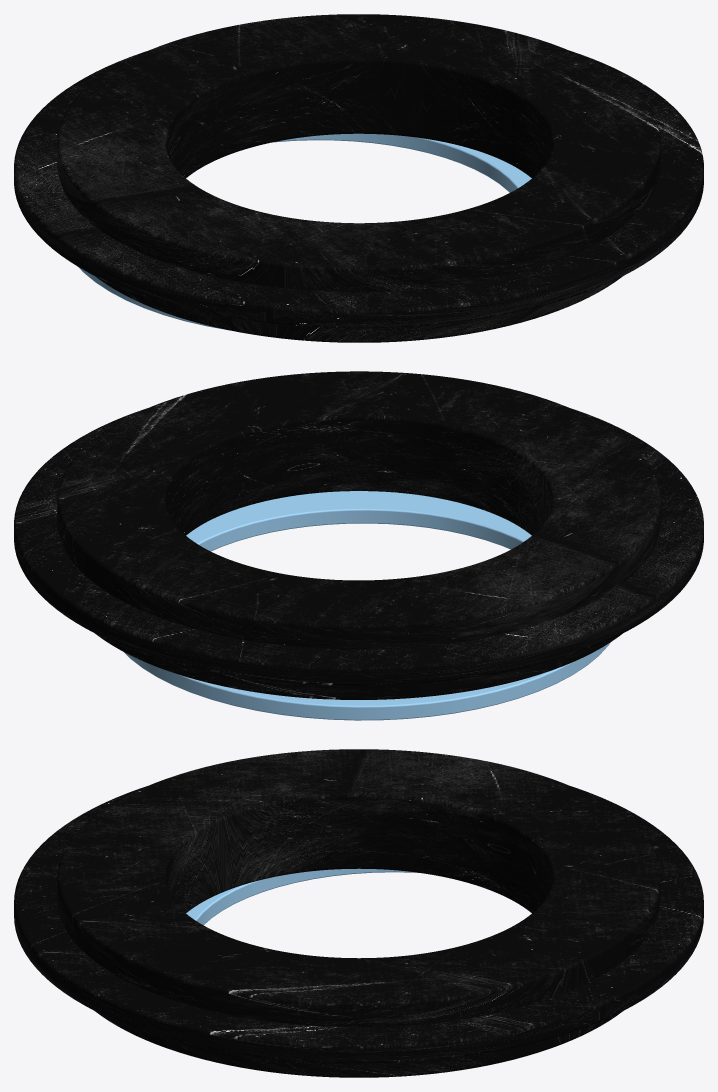
The model's file is glass_aberration.gltf.
The picture shows the model from 3 angles, top to bottom: view 1: azimuth 30°, elevation 25°; view 2: azimuth 150°, elevation 25°; view 3: azimuth 270°, elevation 25°; orthographic projection.
Parts seen in each view (by area): view 1: Glass-Elipse (×2), Blue-elipse; view 2: Glass-Elipse (×2), Blue-elipse; view 3: Glass-Elipse (×2), Blue-elipse.
Part boxes in pixels (<box>): Glass-Elipse (×2): <box>14,14,703,342</box>; Blue-elipse: <box>78,133,531,329</box>; Glass-Elipse (×2): <box>14,371,703,699</box>; Blue-elipse: <box>124,491,610,720</box>; Glass-Elipse (×2): <box>14,749,703,1077</box>; Blue-elipse: <box>186,868,418,925</box>.
Size of what is drawn, in the model's own units: 3.04 by 0.4645 by 3.04.
4 materials, 3 textured.
